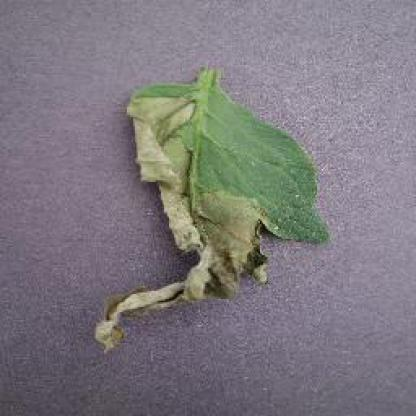bad leaf: (91, 48, 349, 356)
